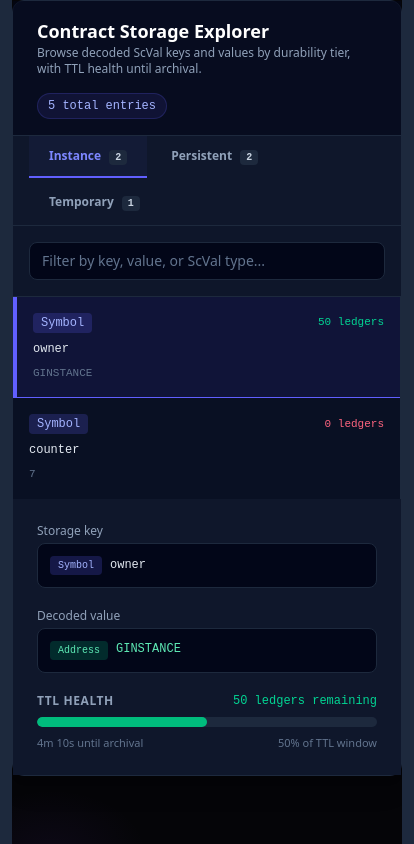
Test: ContractStorageExplorer › updates the detail pane when a different storage entry is selected
This screenshot has width=414, height=844.
Click the button with test id "storage-entry-inst-counter" at (59, 424), box 13,398 -> 400,499
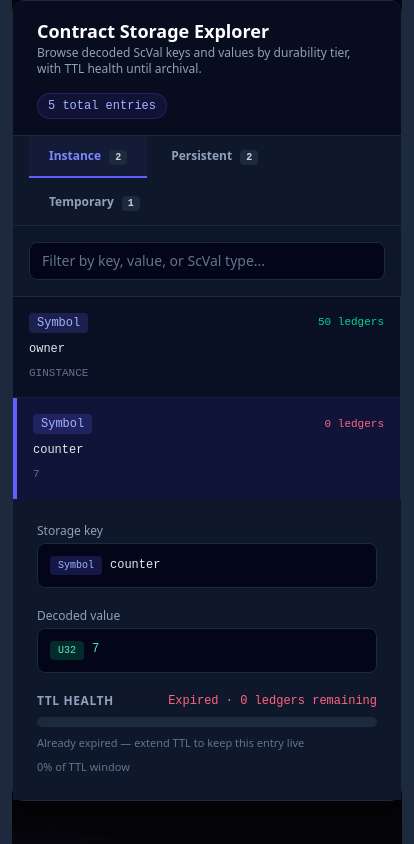
Check: the element with test id "storage-detail-key" shows "counter", box 110,558 -> 160,572
Check: the element with test id "storage-detail-value" shows "7", box 92,642 -> 99,656
